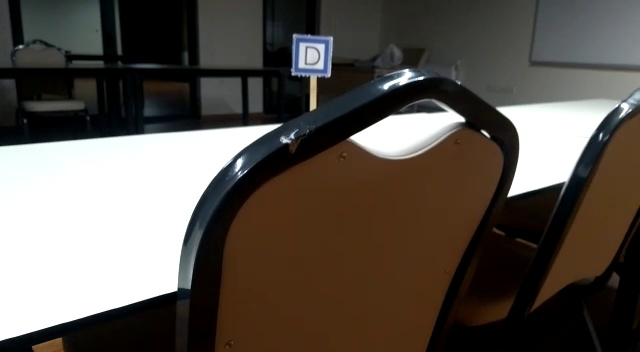durak: (291, 35, 332, 75)
